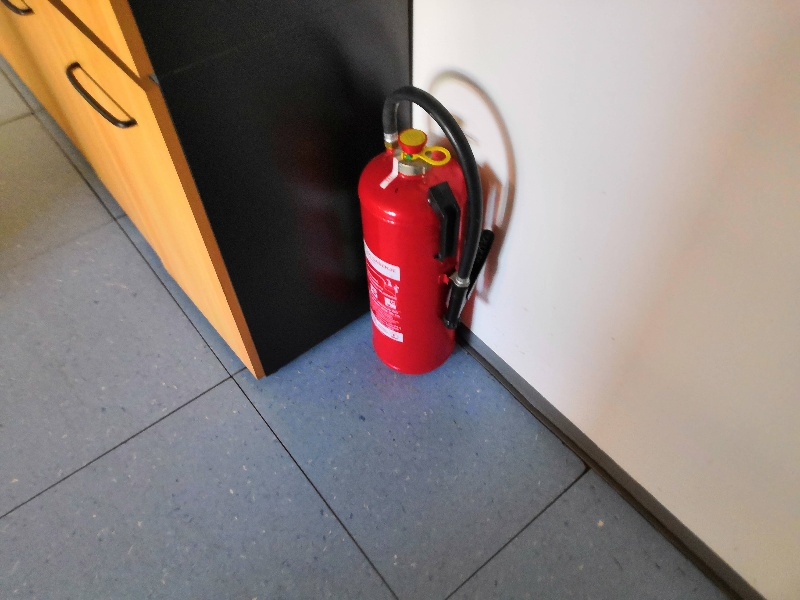vataparat: (359, 88, 494, 372)
